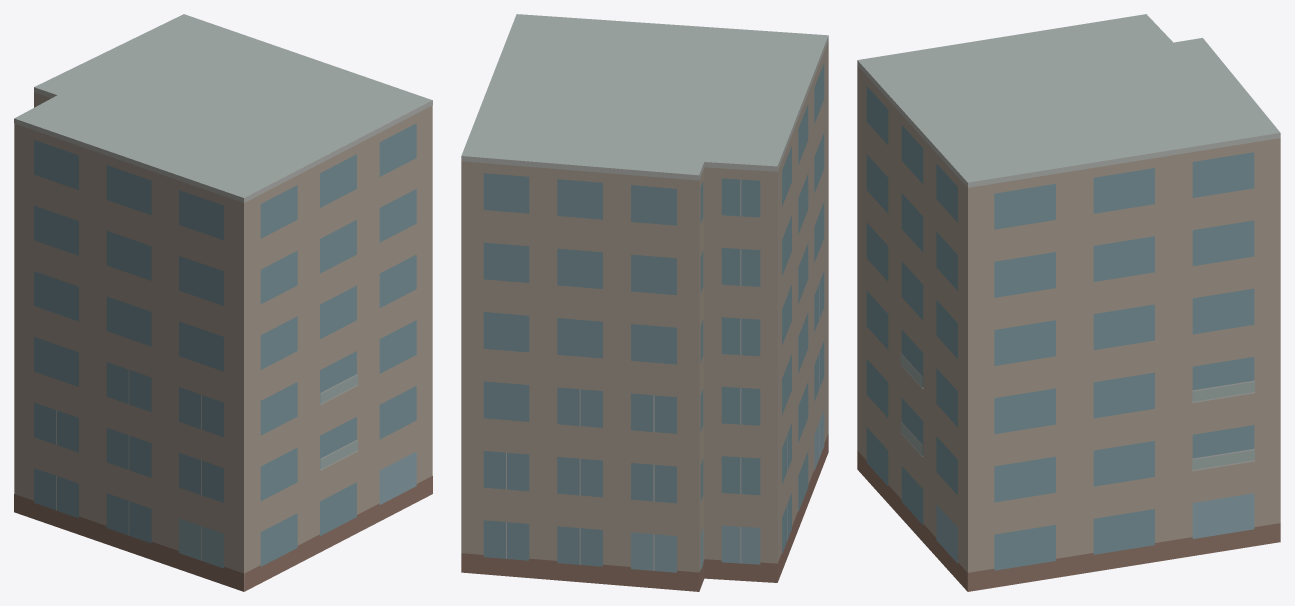
Rendered from survey-upis-32863668.glb.
3 views of the same model, side by side, from view 1: azimuth 30°, elevation 25°; view 2: azimuth 150°, elevation 25°; view 3: azimuth 270°, elevation 25° (orthographic). The views are drawn at different scales.
Visible parts, largest first — view 1: survey-upis-32863668.tmp; view 2: survey-upis-32863668.tmp; view 3: survey-upis-32863668.tmp.
Boxes of the visible parts, x1,y1,x2,y2 form: survey-upis-32863668.tmp: [14, 14, 432, 591]; survey-upis-32863668.tmp: [461, 14, 828, 591]; survey-upis-32863668.tmp: [857, 14, 1280, 591].
Size of the model in its own units: 16.89 by 19.1 by 17.92.
